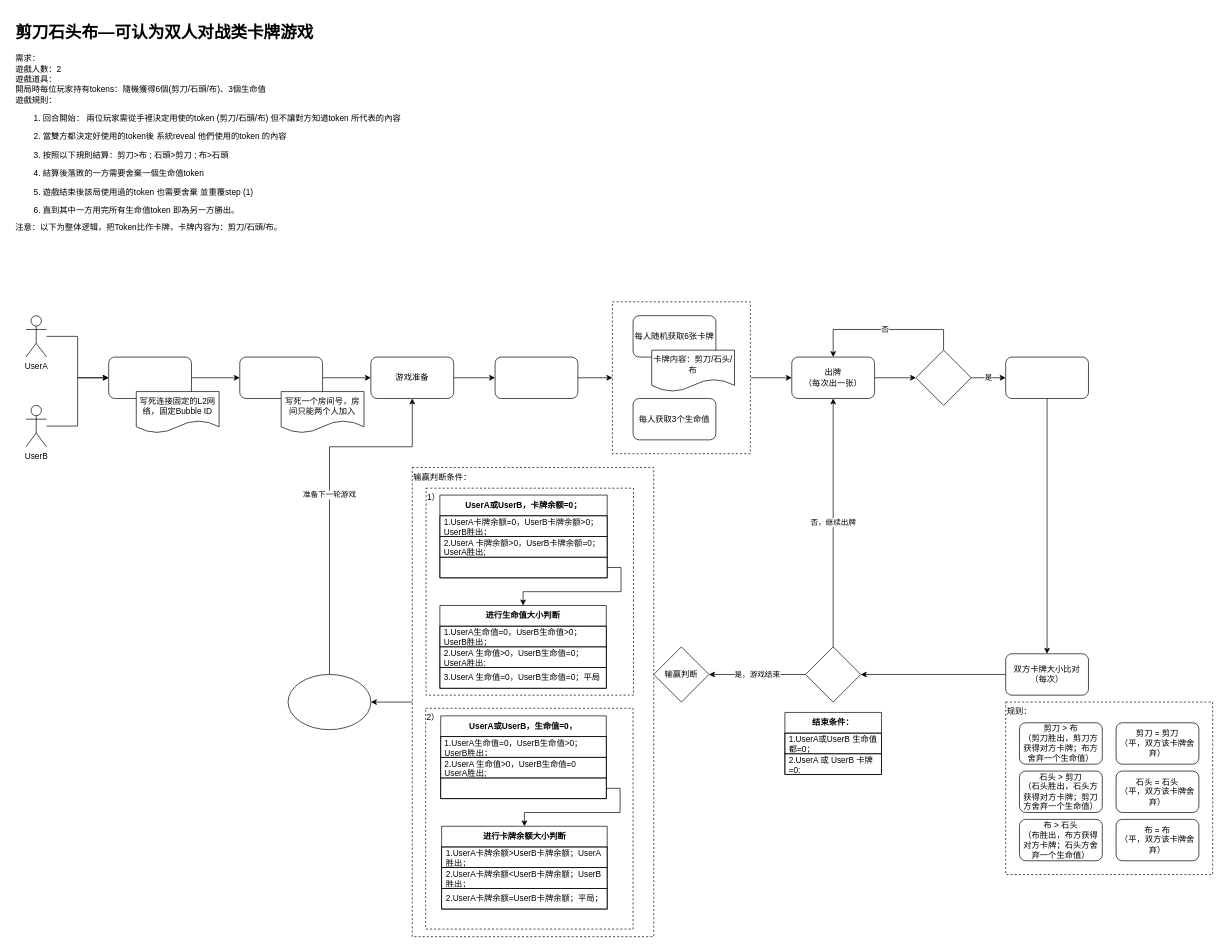
This 1225x949 diagram has some shape labels left out. The shapes that lost their labels are listed below. From the top down, each one's centre as x and y in pixels, then its label:
pixel 149 377: 连接钱包 （插件钱包）
pixel 281 377: 加入房间
pixel 536 377: 开始游戏
pixel 943 377: 双方都已出牌判断
pixel 1046 377: 翻牌 （每次）
pixel 523 567: 2.UserA 卡牌余额=0，UserB卡牌余额=0；
pixel 833 674: 游戏结束额判断
pixel 329 702: 结束
pixel 523 788: 3.UserA 生命值=0，UserB生命值=0
